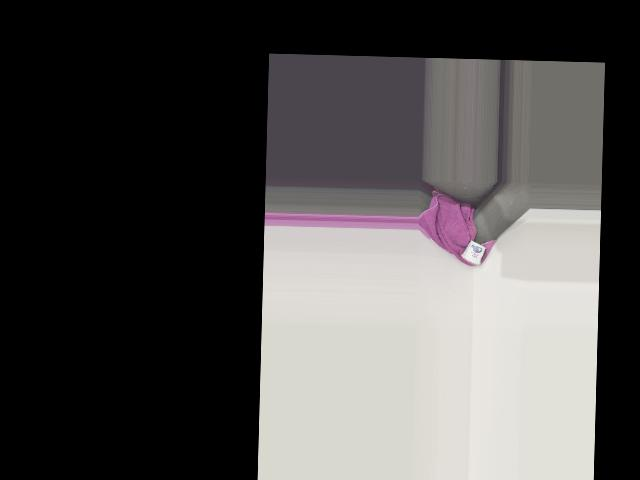cotage: (461, 241, 484, 266)
